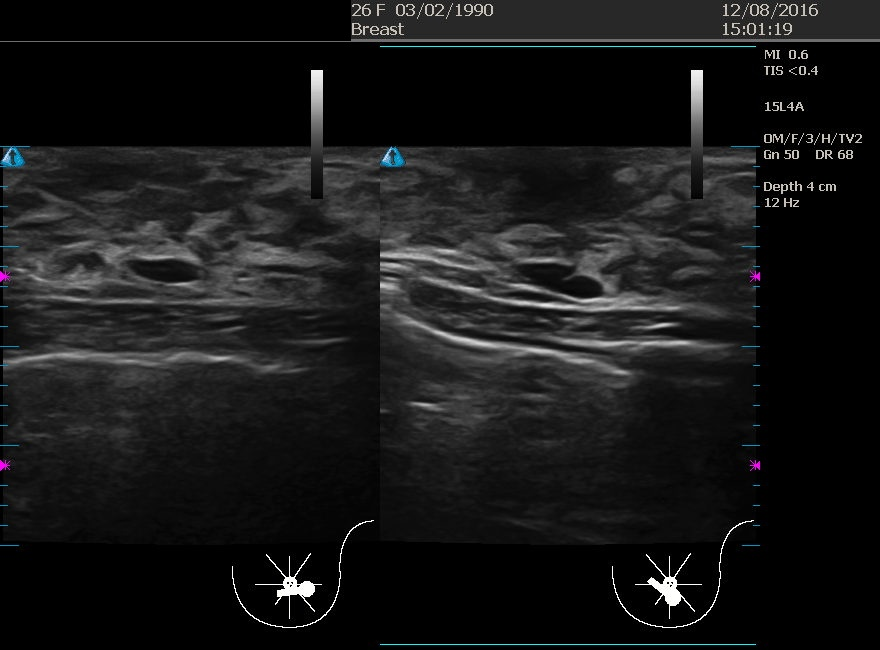BIRADS_2: (51, 185, 251, 385), (459, 187, 659, 387)
